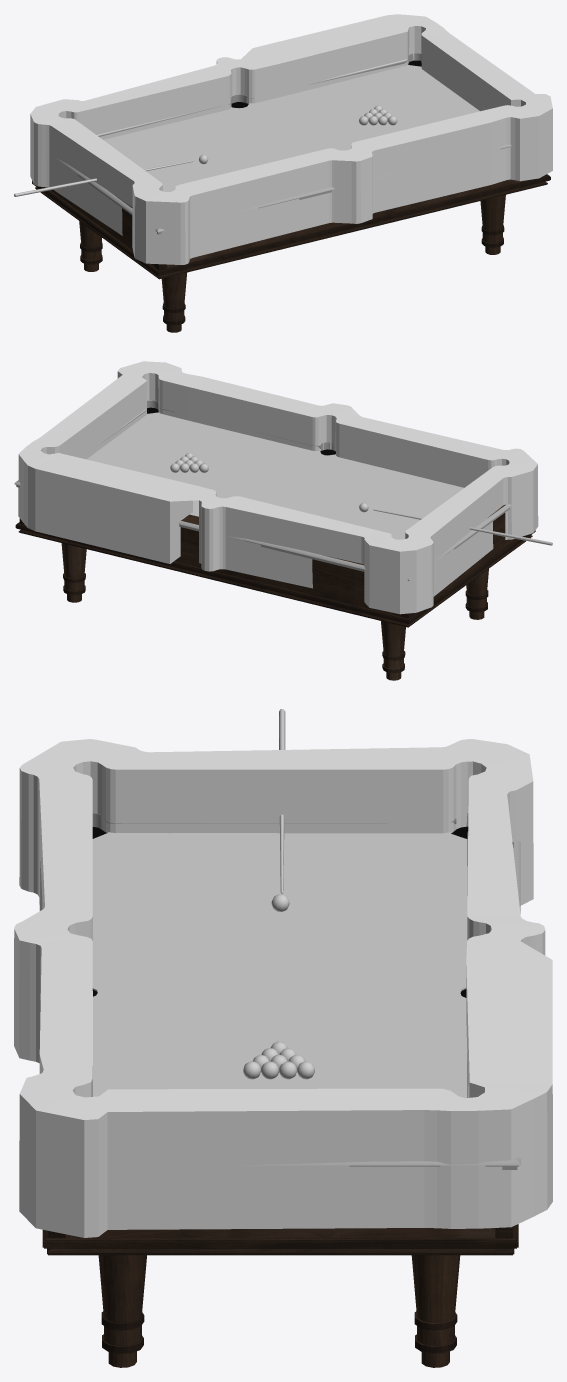
The model's file is apucqs.gltf.
The picture shows the model from 3 angles, top to bottom: view 1: azimuth 30°, elevation 25°; view 2: azimuth 150°, elevation 25°; view 3: azimuth 270°, elevation 25°; orthographic projection. The views are drawn at different scales.
Visible parts, largest first — view 1: Cube, Billiards_GreenBoard, Billiard_Wood, Billiard_Metal, Billiard_Stick2; view 2: Cube, Billiards_GreenBoard, Billiard_Wood, Billiard_Metal, Billiard_Stick2; view 3: Cube, Billiards_GreenBoard, Billiard_Wood, Billiard_Metal.
Part boxes in pixels (<box>): Cube: <box>30,14,552,264</box>; Billiards_GreenBoard: <box>97,59,485,191</box>; Billiard_Wood: <box>32,60,550,332</box>; Billiard_Metal: <box>55,53,511,234</box>; Billiard_Stick2: <box>14,160,193,196</box>; Cube: <box>18,361,538,614</box>; Billiards_GreenBoard: <box>87,408,463,539</box>; Billiard_Wood: <box>15,407,535,680</box>; Billiard_Metal: <box>14,400,511,580</box>; Billiard_Stick2: <box>373,509,552,545</box>; Cube: <box>14,739,552,1237</box>; Billiards_GreenBoard: <box>92,818,468,1098</box>; Billiard_Wood: <box>42,826,518,1367</box>; Billiard_Metal: <box>40,813,520,1169</box>.
Bounding box in the file's own units: 3.35 × 1 × 1.71.
